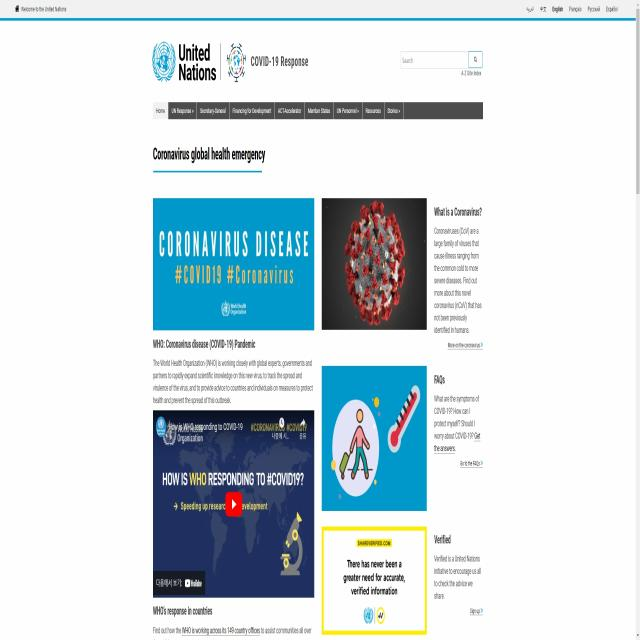search: (398, 49, 484, 77)
side-panel: (430, 195, 486, 625)
tab-bar: (152, 98, 406, 125), (524, 2, 622, 17)
